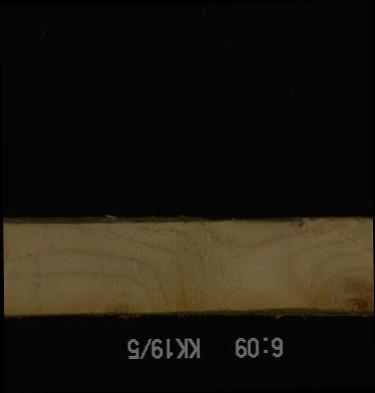edge_knot: (102, 291, 139, 316), (341, 290, 373, 314)
